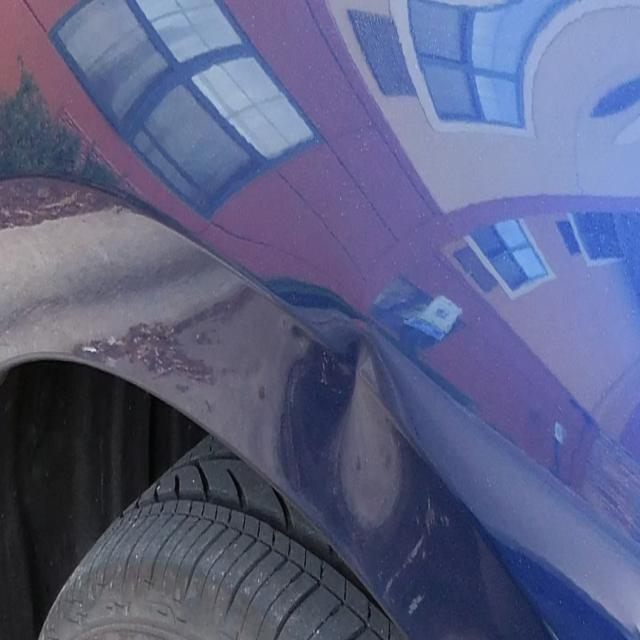dents: (273, 304, 430, 565)
